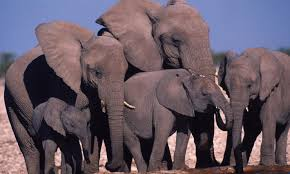Elephant: (116, 60, 234, 169)
